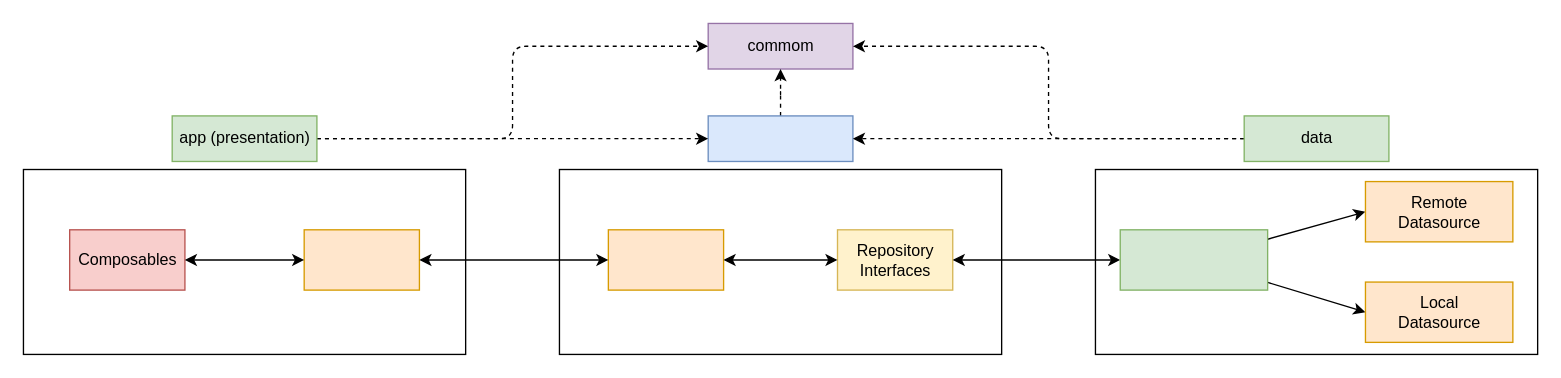
Image size: 1561x378. Some labels were removed from this diagram. Each missing label, with the centre of its shape:
domain: the point at 780,138
Repository Implementations: the point at 1193,259
UseCases: the point at 665,259
ViewModels: the point at 361,259
